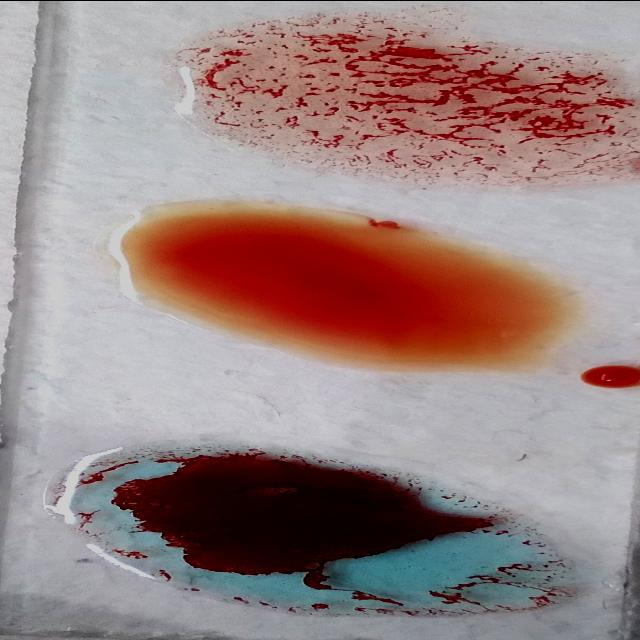A: (45, 447, 581, 612)
D: (185, 27, 629, 169)
